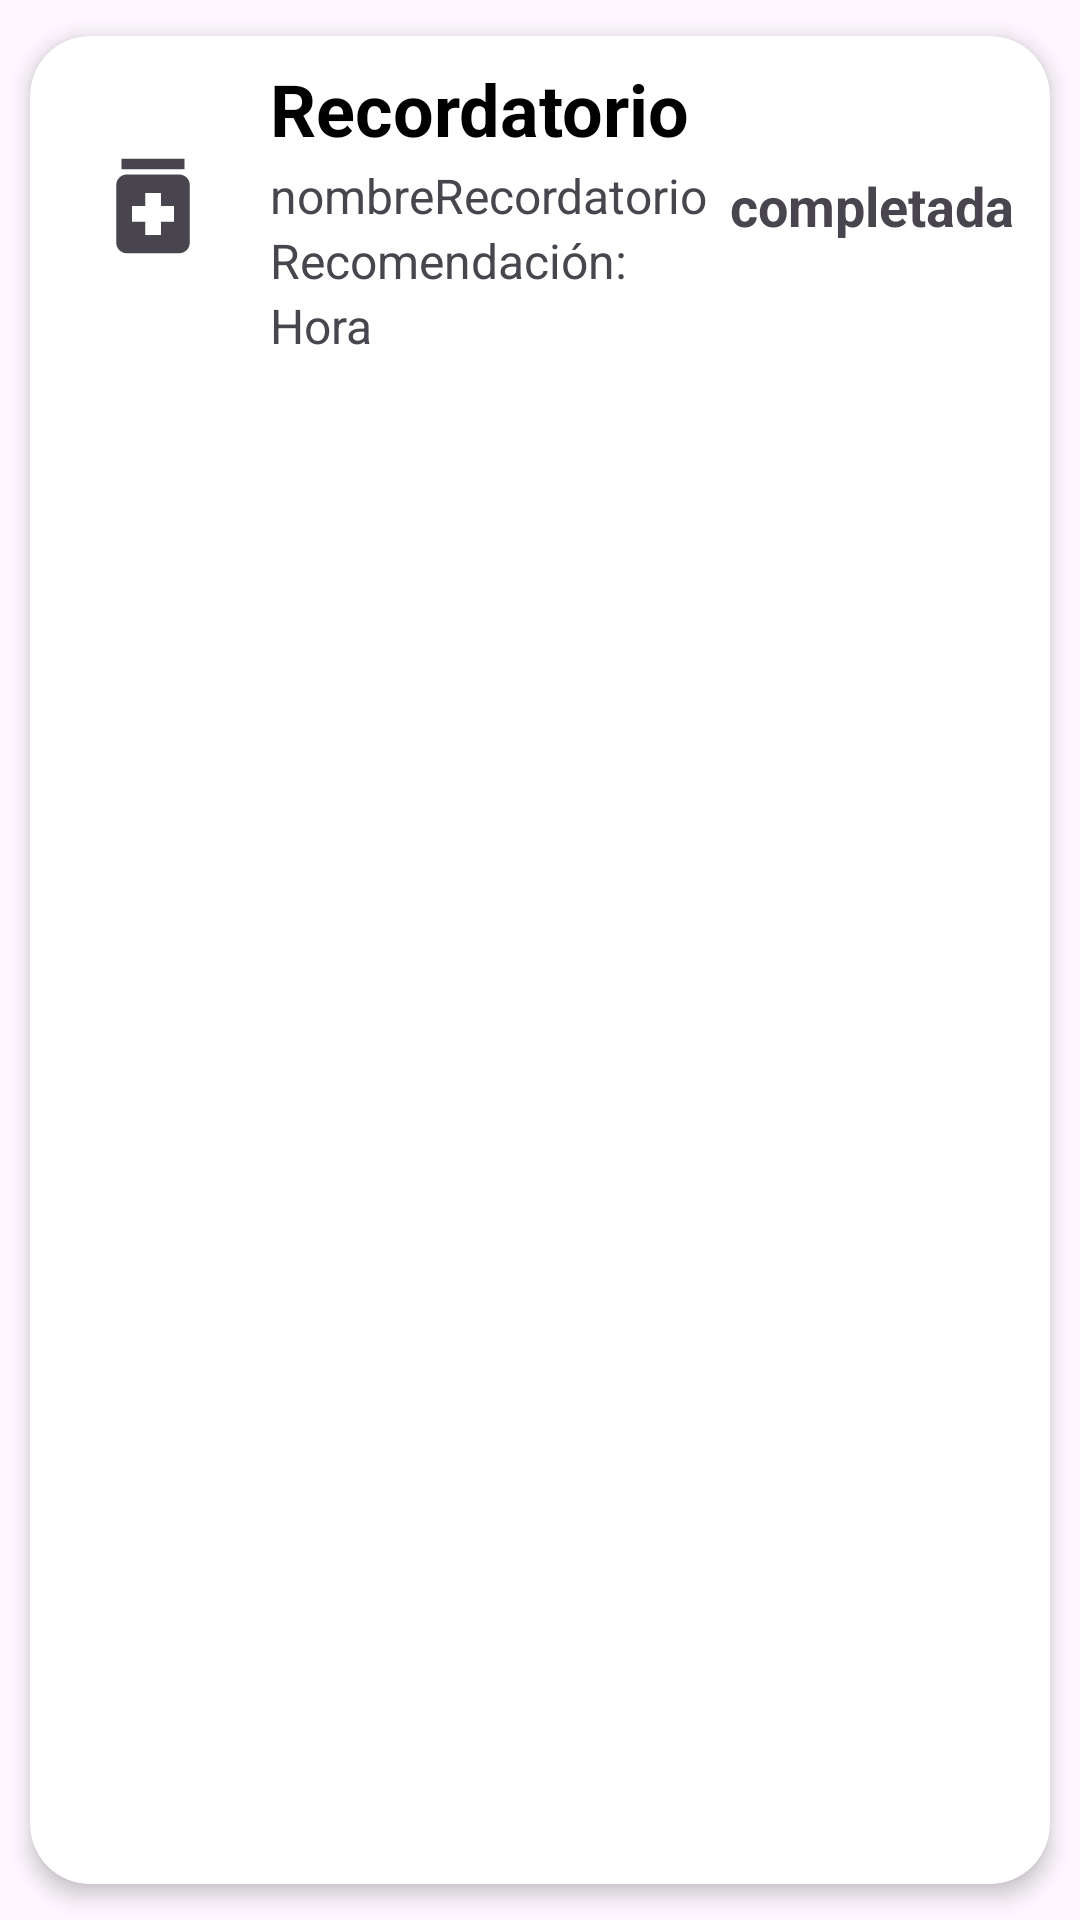

Icons on this 1080x1920 Android screen, each with its box as (x1, y1, x2, y2):
med: (116, 158, 190, 254)
